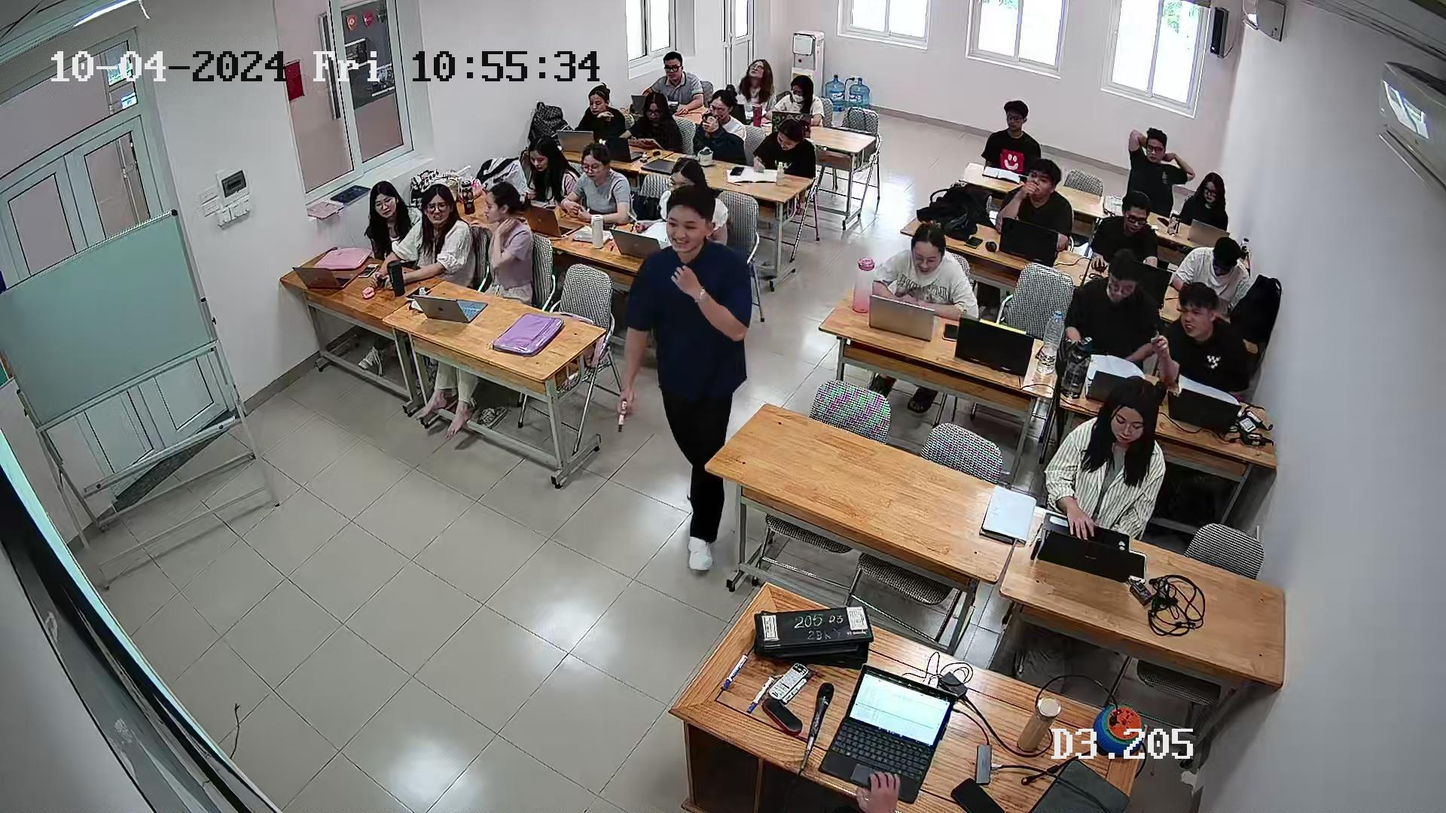Hand Under Table: (1122, 499, 1151, 534)
Look Around: (481, 190, 536, 280)
Stand Up: (636, 184, 746, 583)
